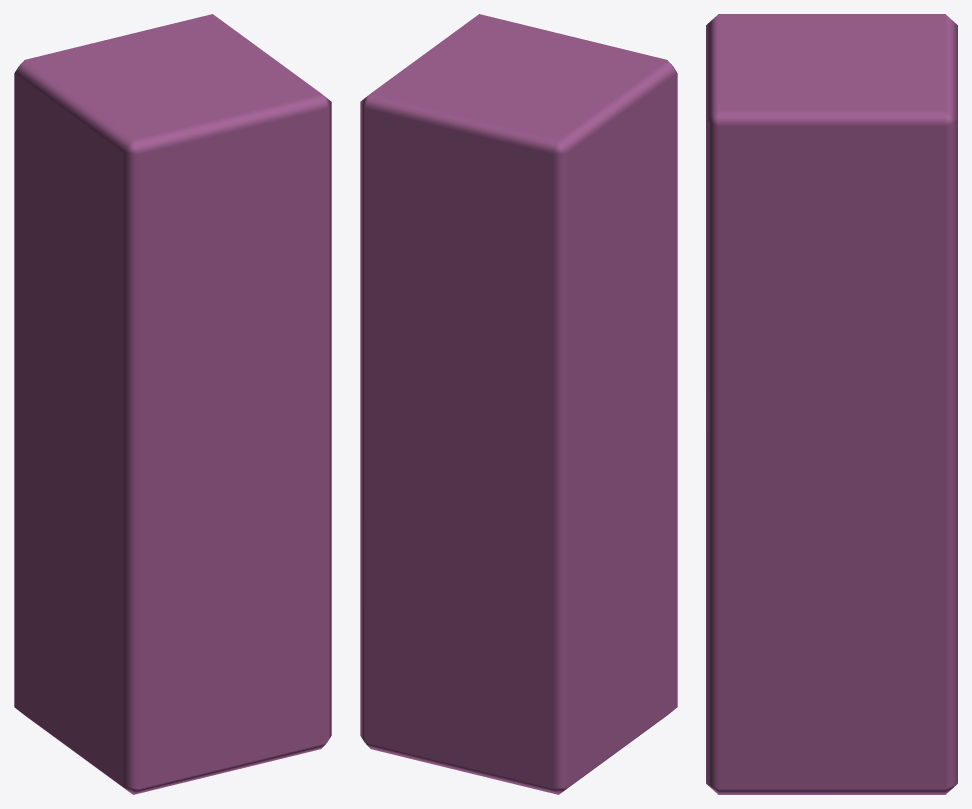
Rendered from 1x3x1_Square.fbx.
The picture shows the model from 3 angles, left to right: view 1: azimuth 30°, elevation 25°; view 2: azimuth 150°, elevation 25°; view 3: azimuth 270°, elevation 25°; orthographic projection. The views are drawn at different scales.
Parts seen in each view (by area): view 1: 1x3x1_Square; view 2: 1x3x1_Square; view 3: 1x3x1_Square.
Part boxes in pixels (x1=…): 1x3x1_Square: x1=14, y1=14, x2=331, y2=794; 1x3x1_Square: x1=360, y1=14, x2=677, y2=794; 1x3x1_Square: x1=706, y1=14, x2=957, y2=794.
Bounding box in the file's own units: 0.1 × 0.3 × 0.1.
1 material, 1 textured.
